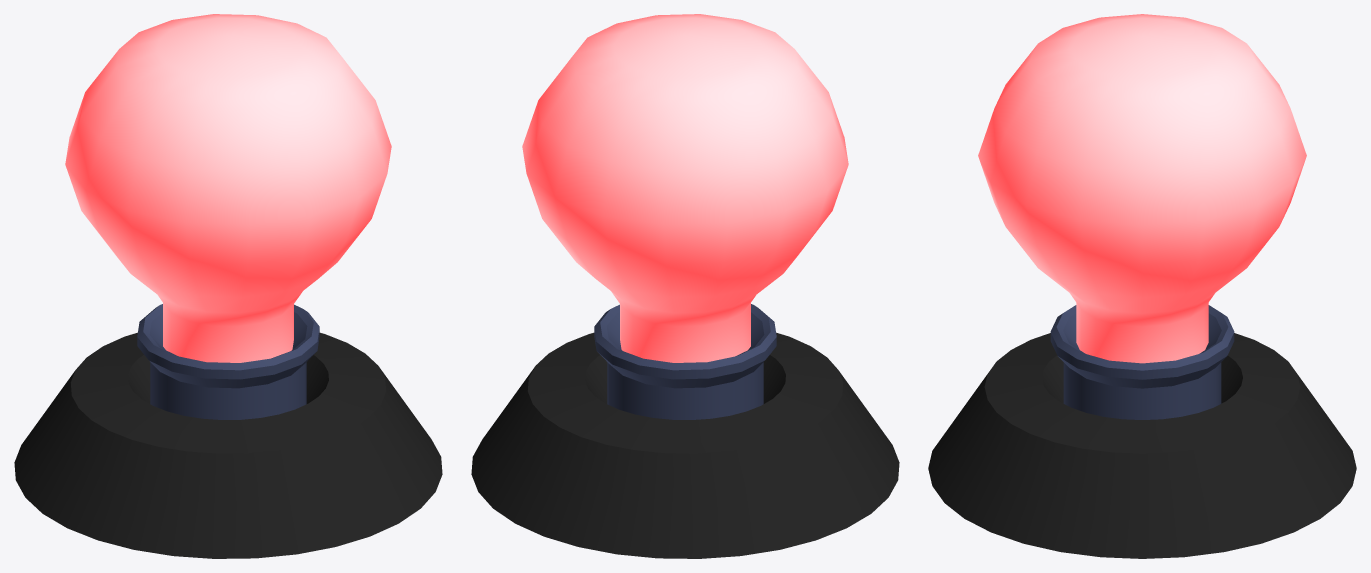
File: lamp.fbx
3 renders of one model, left to right at view 1: azimuth 30°, elevation 25°; view 2: azimuth 150°, elevation 25°; view 3: azimuth 270°, elevation 25°, orthographic.
Parts seen in each view (by area): view 1: Cylinder.002, Cylinder; view 2: Cylinder.002, Cylinder; view 3: Cylinder.002, Cylinder.
Boxes of the visible parts, left/top/right/bottom form: Cylinder.002: left=65, top=14, right=391, bottom=362; Cylinder: left=14, top=304, right=442, bottom=558; Cylinder.002: left=522, top=14, right=848, bottom=362; Cylinder: left=471, top=304, right=899, bottom=558; Cylinder.002: left=978, top=14, right=1306, bottom=363; Cylinder: left=928, top=305, right=1356, bottom=558.
Size of the model in its own units: 212 by 236 by 212.
